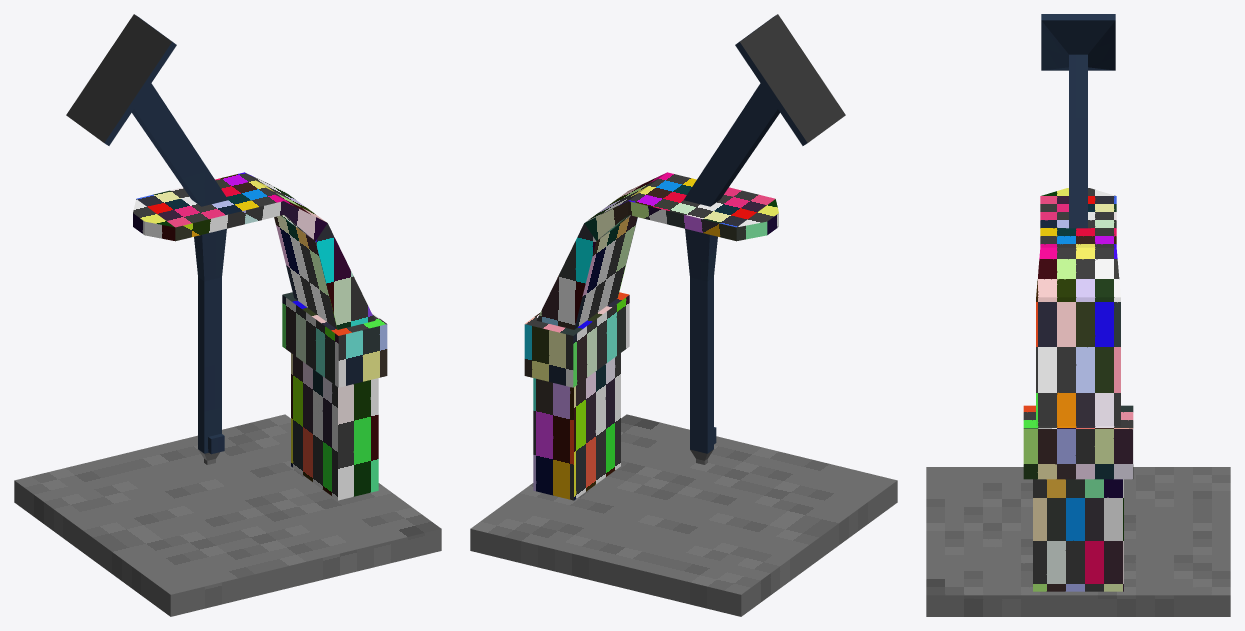
The model's file is microscope.obj.
3 views of the same model, side by side, from view 1: azimuth 30°, elevation 25°; view 2: azimuth 150°, elevation 25°; view 3: azimuth 270°, elevation 25° (orthographic). The views are drawn at different scales.
Visible parts, largest first — view 1: Cube_plate, Cube_frame, Cube_arm, Cube_screen; view 2: Cube_plate, Cube_frame, Cube_arm, Cube_screen; view 3: Cube_frame, Cube_plate, Cube_arm.
Boxes of the visible parts, x1,y1,x2,y2 form: Cube_plate: [14, 414, 441, 616]; Cube_frame: [133, 172, 387, 500]; Cube_arm: [104, 15, 227, 454]; Cube_screen: [66, 14, 171, 142]; Cube_plate: [470, 414, 897, 616]; Cube_frame: [524, 172, 778, 500]; Cube_arm: [684, 15, 807, 453]; Cube_screen: [740, 14, 845, 142]; Cube_frame: [1023, 188, 1133, 591]; Cube_plate: [926, 467, 1230, 616]; Cube_arm: [1041, 14, 1115, 228].
Size of the model in its own units: 0.411 by 0.7298 by 0.4.
